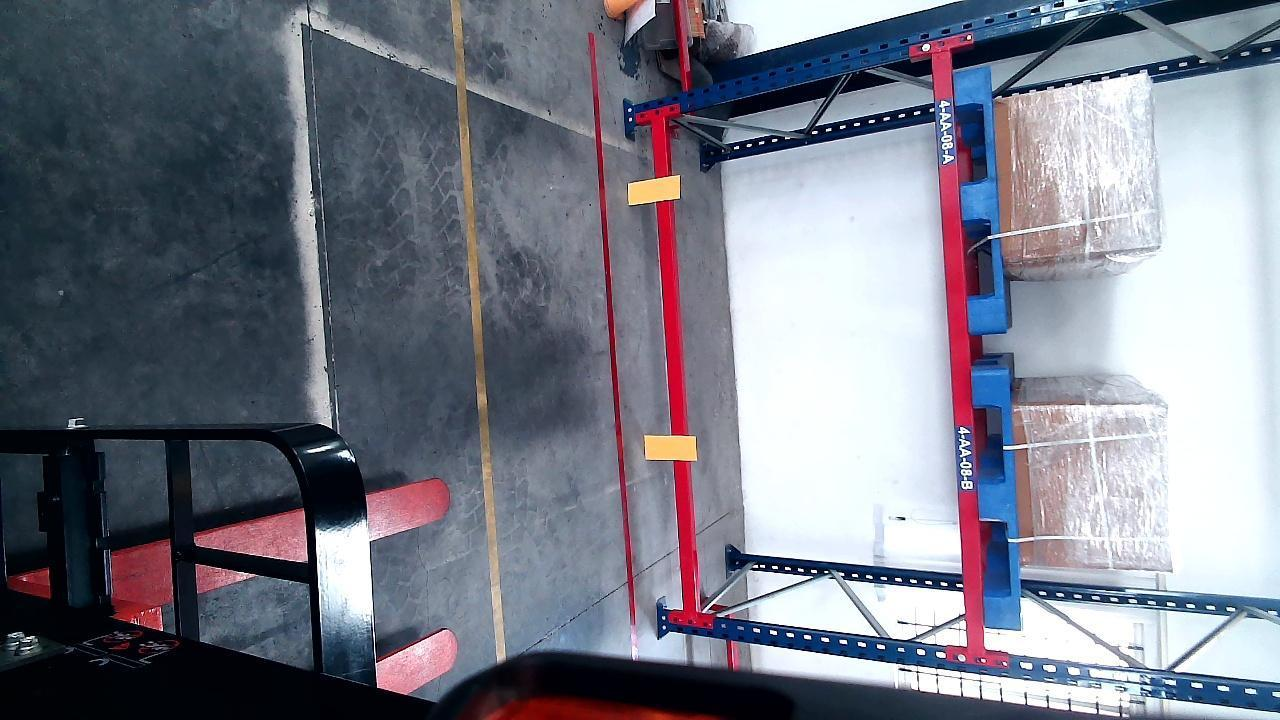h_rack: (936, 55, 984, 647), (648, 112, 698, 613)
orange_strip: (625, 176, 679, 203), (644, 434, 696, 460)
red_line: (587, 29, 637, 631)
small_pallet: (955, 65, 1006, 329), (972, 369, 1020, 618), (993, 589, 1280, 622)
yellow_line: (452, 0, 507, 659)
